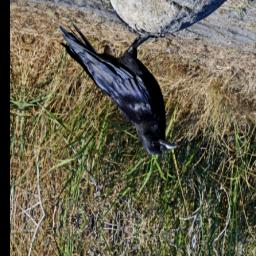Crow: (45, 9, 192, 163)
